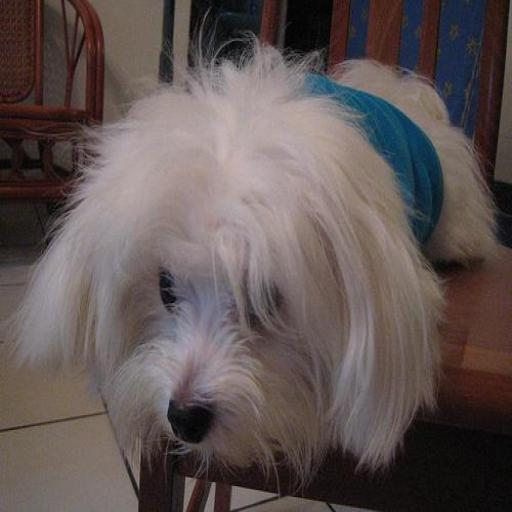dog_face: (71, 84, 441, 468)
